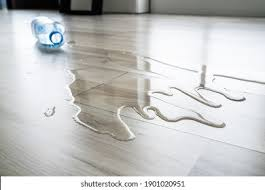Wet-floor: (43, 49, 249, 150)
